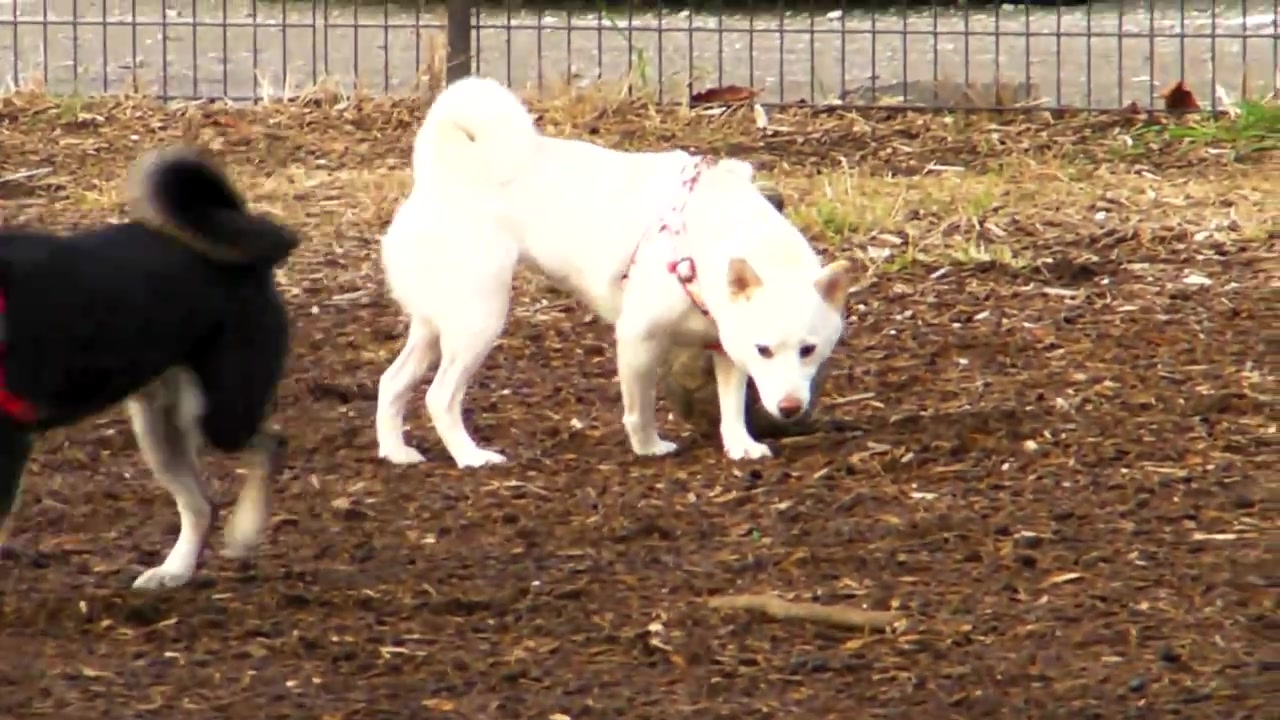dog: (375, 72, 859, 470)
